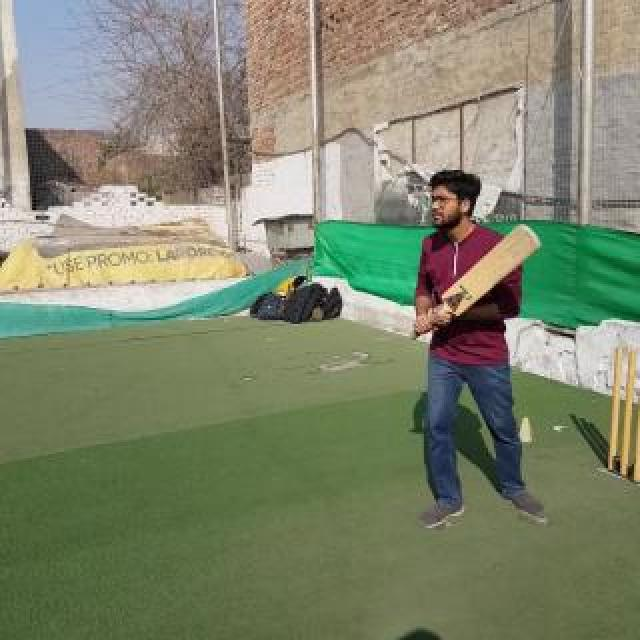bat: (408, 224, 542, 340)
